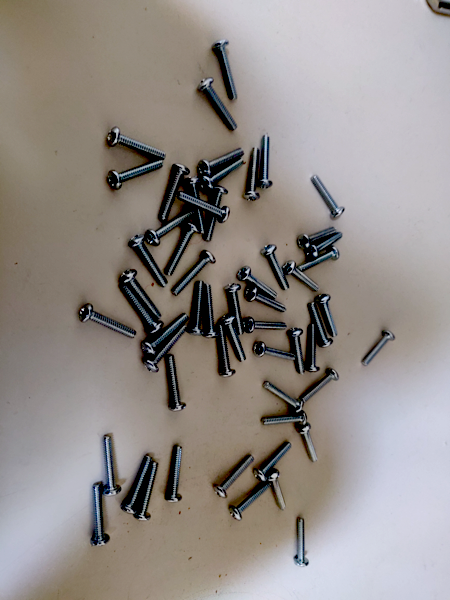longscrew: (106, 122, 167, 161), (123, 240, 170, 288), (224, 479, 273, 523), (117, 281, 159, 331), (199, 79, 239, 131), (142, 308, 187, 354), (76, 305, 139, 337), (145, 324, 186, 373), (173, 253, 217, 298), (213, 452, 259, 495), (177, 192, 230, 229), (212, 40, 243, 103), (122, 454, 154, 514), (159, 164, 193, 219), (166, 220, 199, 276), (124, 273, 165, 317), (106, 157, 162, 189), (146, 209, 193, 246), (254, 441, 293, 482), (205, 187, 233, 244), (312, 174, 344, 223), (163, 442, 187, 506), (134, 460, 158, 524), (98, 433, 122, 497), (86, 486, 110, 550), (202, 157, 246, 191), (166, 352, 190, 412), (238, 265, 281, 298), (245, 283, 288, 316), (196, 146, 245, 174), (262, 245, 291, 291), (282, 263, 329, 291), (186, 176, 207, 238), (304, 365, 341, 400), (363, 329, 396, 368), (265, 382, 307, 411), (222, 316, 247, 361), (214, 324, 234, 380), (296, 225, 340, 250), (305, 234, 349, 259), (300, 248, 344, 273), (288, 329, 312, 372), (225, 284, 246, 333), (259, 134, 278, 188), (244, 313, 288, 336), (254, 344, 298, 367), (309, 304, 333, 346), (318, 296, 341, 339), (190, 279, 207, 336), (305, 330, 328, 372), (246, 150, 263, 203), (295, 517, 312, 567), (299, 423, 318, 467), (204, 282, 217, 342), (273, 467, 285, 518), (257, 418, 306, 425)
